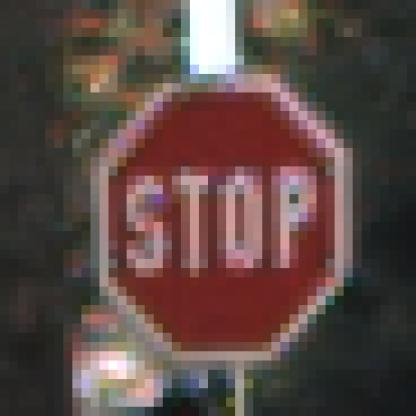stop: (88, 73, 384, 374)
